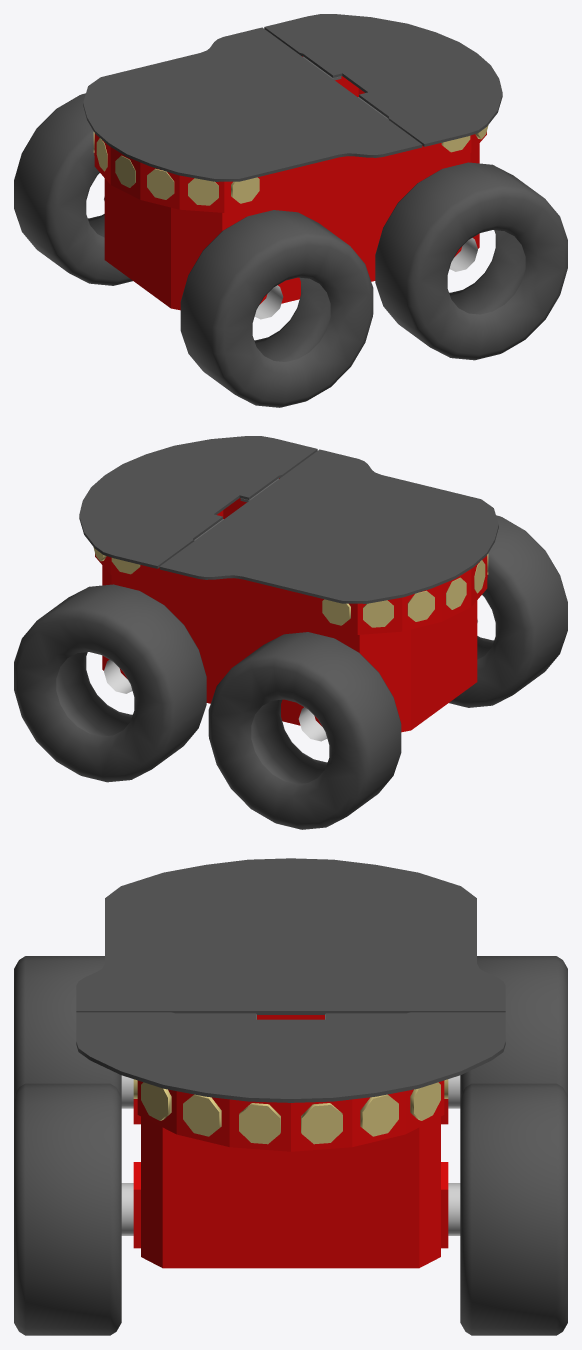
File: pioneer2at.dae
3 views of the same model, one above another, from view 1: azimuth 30°, elevation 25°; view 2: azimuth 150°, elevation 25°; view 3: azimuth 270°, elevation 25° (orthographic). The views are drawn at different scales.
Visible parts, largest first — view 1: Cube.001, Plane.003, Plane.009, Plane.001, Plane.017, Cylinder.001, Plane.007, Plane.002; view 2: Cube.001, Plane.017, Plane.010, Plane.001, Plane.003, Cylinder.002, Plane.012, Plane.015; view 3: Cube.001, Plane.001, Plane.009, Plane.010, Plane.003, Plane.017, Cylinder, Cylinder.003, Plane.006, Plane.013, Plane.007, Plane.012.
Part boxes in pixels (bbox=[...]): Cube.001: bbox=[83, 14, 502, 181]; Plane.003: bbox=[180, 210, 373, 407]; Plane.009: bbox=[375, 162, 567, 360]; Plane.001: bbox=[94, 56, 486, 310]; Plane.017: bbox=[14, 93, 132, 285]; Cylinder.001: bbox=[115, 155, 259, 205]; Plane.007: bbox=[449, 238, 477, 271]; Plane.002: bbox=[255, 285, 283, 319]; Cube.001: bbox=[79, 436, 498, 603]; Plane.017: bbox=[208, 632, 401, 829]; Plane.010: bbox=[14, 584, 206, 782]; Plane.001: bbox=[95, 478, 487, 732]; Plane.003: bbox=[449, 515, 567, 707]; Cylinder.002: bbox=[322, 577, 466, 627]; Plane.012: bbox=[104, 660, 132, 693]; Plane.015: bbox=[298, 707, 326, 741]; Cube.001: bbox=[76, 858, 505, 1102]; Plane.001: bbox=[137, 1015, 444, 1268]; Plane.009: bbox=[14, 1083, 121, 1335]; Plane.010: bbox=[460, 1083, 567, 1335]; Plane.003: bbox=[14, 956, 121, 1095]; Plane.017: bbox=[460, 956, 567, 1095]; Cylinder: bbox=[133, 1079, 280, 1144]; Cylinder.003: bbox=[301, 1079, 448, 1144]; Plane.006: bbox=[133, 1162, 140, 1248]; Plane.013: bbox=[441, 1162, 448, 1248]; Plane.007: bbox=[121, 1183, 133, 1235]; Plane.012: bbox=[448, 1183, 460, 1235].
Bounding box in the file's own units: 0.5082 × 0.4941 × 0.2769.
